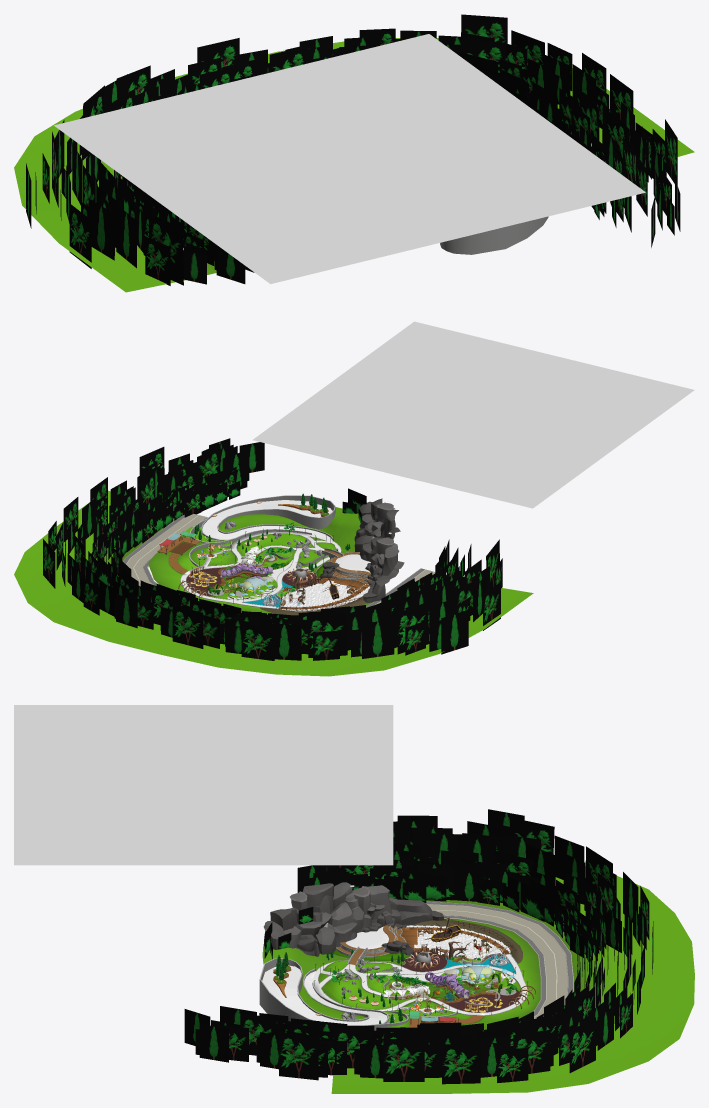
File: Test-Validation 1.fbx
The picture shows the model from 3 angles, top to bottom: view 1: azimuth 30°, elevation 25°; view 2: azimuth 150°, elevation 25°; view 3: azimuth 270°, elevation 25°; orthographic projection. The views are drawn at different scales.
Parts seen in each view (by area): view 1: Plane.002, Border.Tree.v1.1, Border.Tree.v1.6, Border.Road.v1.1, Border.Tree.v1.7, Border.Tree.v1.4, Border.Tree.v1.5, Border.Tree.v1.2, Border.Tree.v1.3, Spiral.Wall.v1.1_LOD0; view 2: Plane.002, Border.Road.v1.1, Border.Tree.v1.3, Border.Tree.v1.4, Border.Tree.v1.7, Border.Tree.v1.6, Border.Tree.v1.2, Border.Tree.v1.5, Border.Tree.v1.1, Spiral.Wall.v1.1_LOD0, Ravine.UplandLand.v1.1, Spiral.Land.v1.1 (+8 smaller); view 3: Plane.002, Border.Road.v1.1, Border.Tree.v1.6, Border.Tree.v1.2, Border.Tree.v1.3, Border.Tree.v1.7, Border.Tree.v1.5, Border.Tree.v1.1, Border.Tree.v1.4, Ravine.UplandLand.v1.1, Border.Land.v1.1, Road.v2.1 (+17 smaller).
Boxes of the visible parts, x1=… form: Plane.002: x1=54, y1=34, x2=645, y2=284; Border.Tree.v1.1: x1=69, y1=194, x2=254, y2=285; Border.Tree.v1.6: x1=501, y1=43, x2=634, y2=160; Border.Road.v1.1: x1=14, y1=38, x2=694, y2=292; Border.Tree.v1.7: x1=590, y1=119, x2=680, y2=247; Border.Tree.v1.4: x1=144, y1=36, x2=380, y2=98; Border.Tree.v1.5: x1=359, y1=14, x2=544, y2=102; Border.Tree.v1.2: x1=26, y1=131, x2=175, y2=247; Border.Tree.v1.3: x1=55, y1=65, x2=170, y2=182; Spiral.Wall.v1.1_LOD0: x1=440, y1=216, x2=548, y2=254; Plane.002: x1=252, y1=321, x2=694, y2=508; Border.Road.v1.1: x1=14, y1=490, x2=533, y2=676; Border.Tree.v1.3: x1=241, y1=605, x2=394, y2=660; Border.Tree.v1.4: x1=99, y1=580, x2=266, y2=653; Border.Tree.v1.7: x1=137, y1=438, x2=264, y2=520; Border.Tree.v1.6: x1=48, y1=471, x2=177, y2=559; Border.Tree.v1.2: x1=368, y1=578, x2=470, y2=655; Border.Tree.v1.5: x1=43, y1=522, x2=143, y2=615; Border.Tree.v1.1: x1=415, y1=539, x2=502, y2=630; Spiral.Wall.v1.1_LOD0: x1=189, y1=495, x2=335, y2=566; Ravine.UplandLand.v1.1: x1=209, y1=533, x2=336, y2=599; Spiral.Land.v1.1: x1=194, y1=507, x2=360, y2=572; Plane.002: x1=14, y1=705, x2=393, y2=865; Border.Road.v1.1: x1=331, y1=866, x2=694, y2=1093; Border.Tree.v1.6: x1=334, y1=1022, x2=528, y2=1084; Border.Tree.v1.2: x1=413, y1=809, x2=555, y2=905; Border.Tree.v1.3: x1=503, y1=835, x2=649, y2=950; Border.Tree.v1.7: x1=184, y1=1006, x2=347, y2=1080; Border.Tree.v1.5: x1=471, y1=985, x2=632, y2=1073; Border.Tree.v1.1: x1=297, y1=815, x2=438, y2=902; Border.Tree.v1.4: x1=570, y1=905, x2=653, y2=1030; Ravine.UplandLand.v1.1: x1=318, y1=960, x2=521, y2=1009; Border.Land.v1.1: x1=379, y1=918, x2=540, y2=1029; Road.v2.1: x1=262, y1=965, x2=387, y2=1025.
Size of what is drawn, in the model's own units: 32268 by 35908 by 8196.
Materials: 5 (3 with a texture image).
